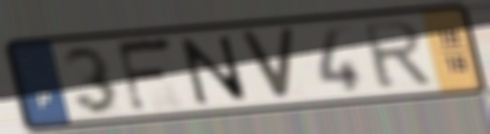3: (61, 43, 122, 115)
4: (315, 23, 367, 96)
F: (113, 34, 179, 116)
N: (176, 33, 254, 107)
R: (358, 19, 436, 93)
V: (235, 26, 299, 102)
